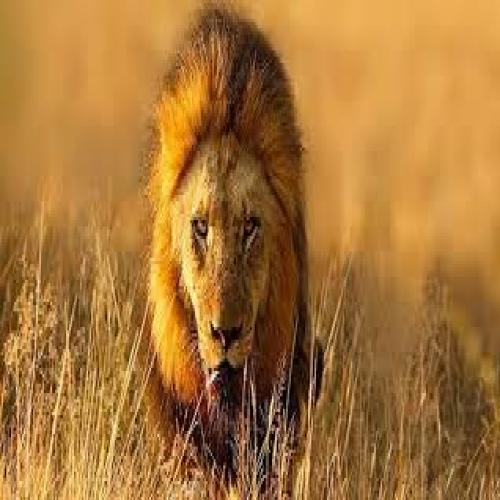lion-endangered: (148, 16, 309, 432)
